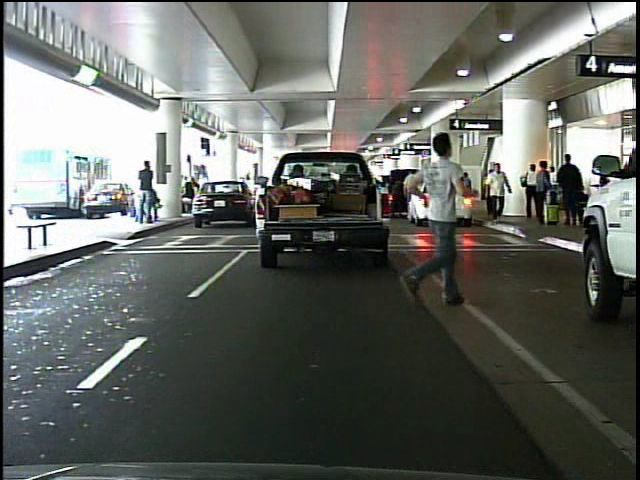person: (395, 120, 477, 323), (557, 144, 585, 229), (485, 157, 515, 228), (136, 158, 159, 225), (518, 156, 541, 222), (535, 158, 555, 225)
